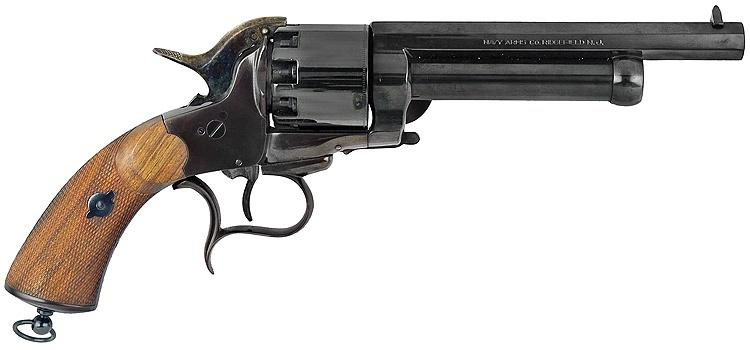gun: (4, 6, 750, 350)
